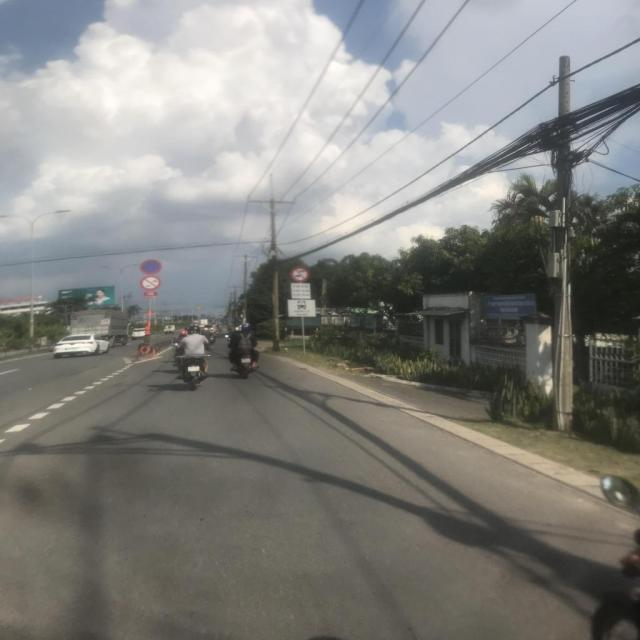cam_dung_xe_va_do_xe: (141, 260, 162, 276)
cam_o_to_tai_va_xe_khach: (290, 266, 310, 282)
cam_xe_2_banh_va_xe_3_banh_co_dong_co: (140, 276, 162, 290)
khac: (287, 300, 316, 318), (290, 283, 311, 299)
